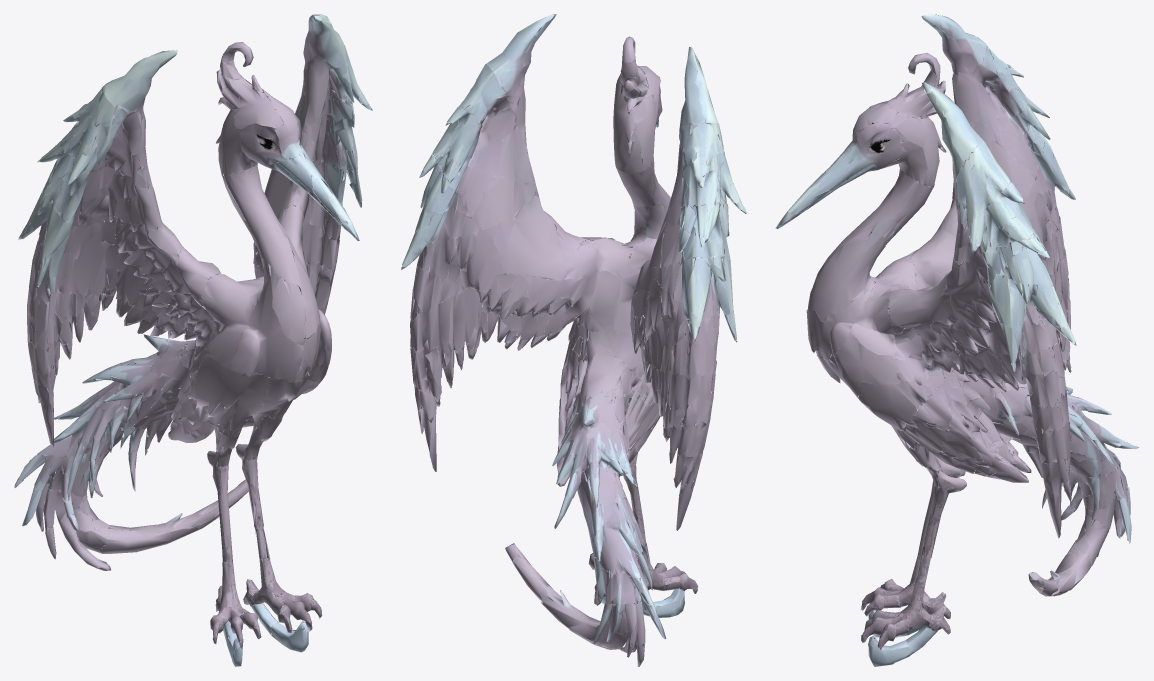
The picture shows the model from 3 angles, left to right: view 1: azimuth 30°, elevation 25°; view 2: azimuth 150°, elevation 25°; view 3: azimuth 270°, elevation 25°; orthographic projection. The views are drawn at different scales.
Visible parts, largest first — view 1: Mesh_0; view 2: Mesh_0; view 3: Mesh_0.
Boxes of the visible parts, box(x1,y1,x2,y2) form: Mesh_0: box(14, 14, 372, 666); Mesh_0: box(401, 14, 746, 666); Mesh_0: box(775, 14, 1139, 666).
Bounding box in the file's own units: 1.06 × 1.9 × 1.04.
Materials: 1 (1 with a texture image).
